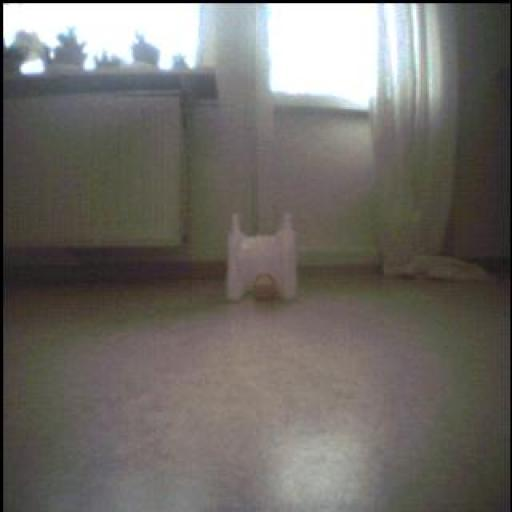Basket: (249, 270, 281, 306)
